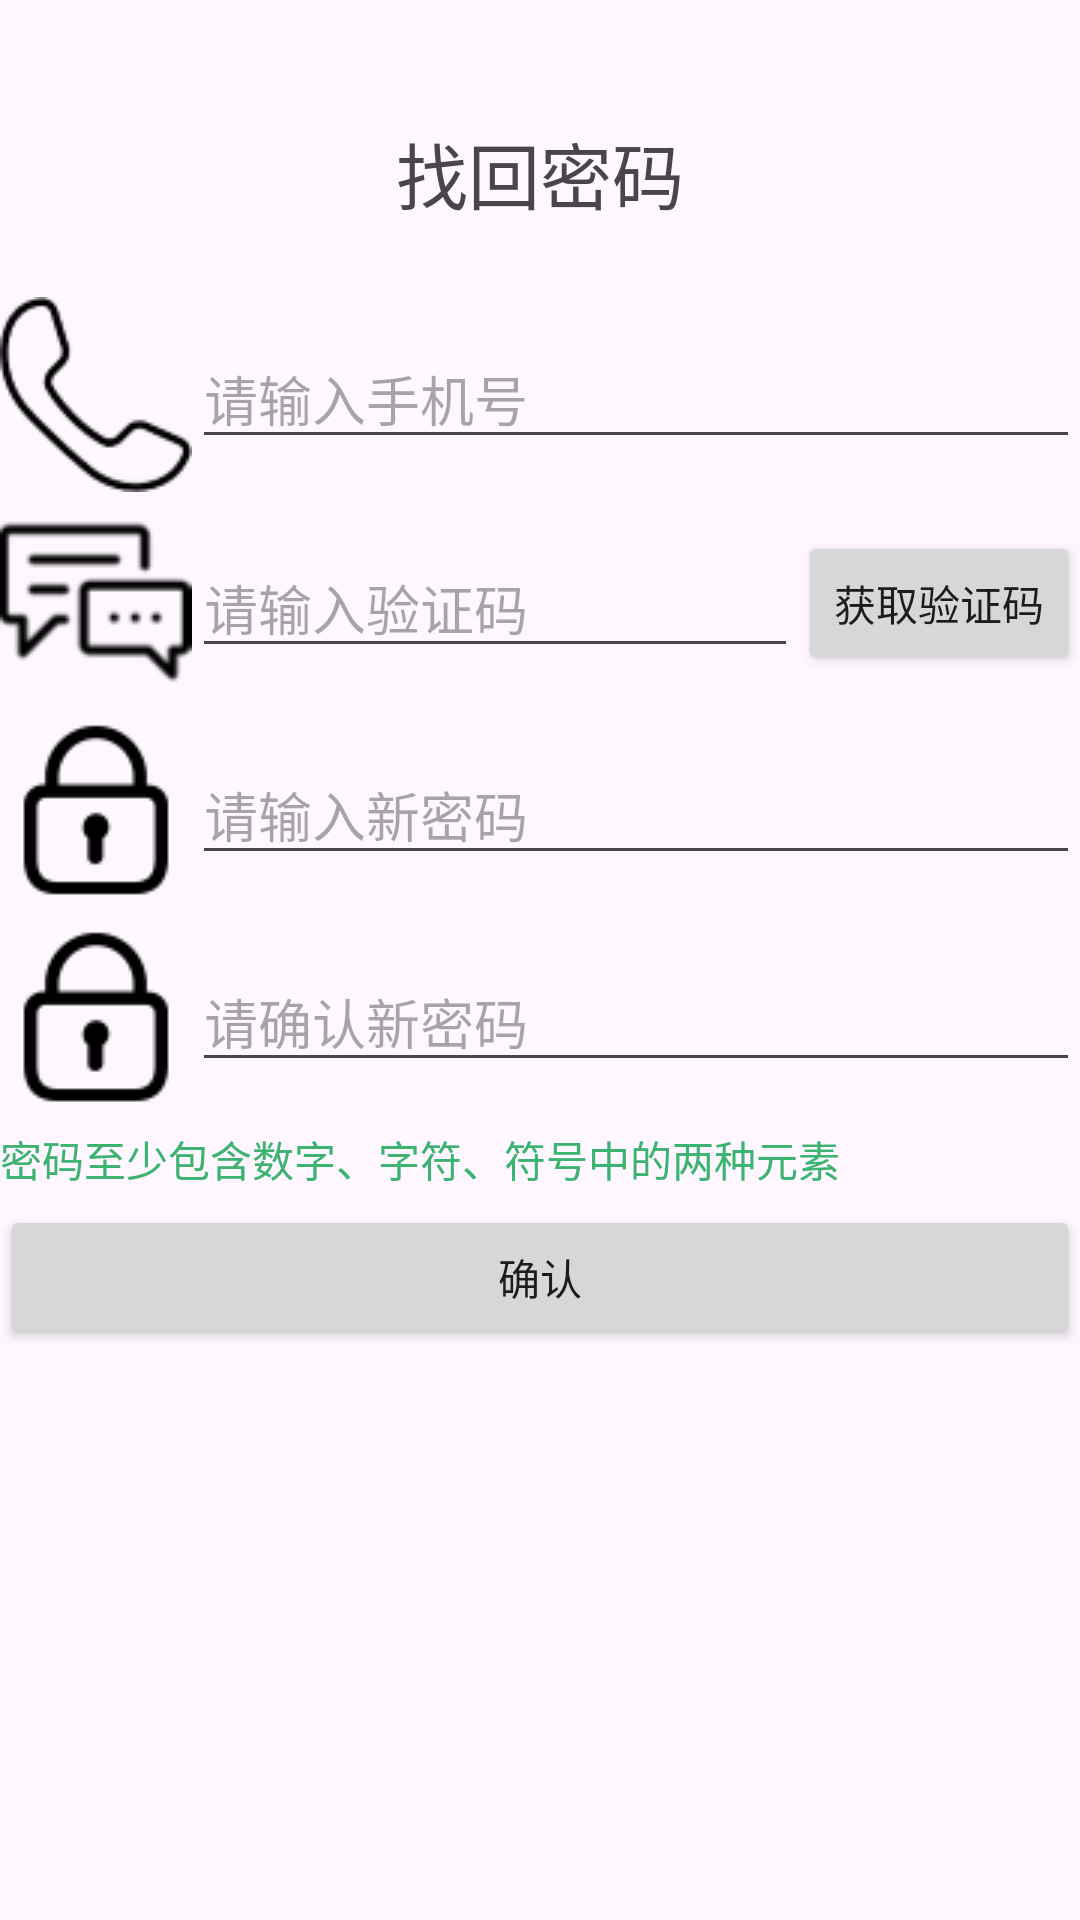

Icon click points for this 1080*1920 phone screenshot, format (x,y):
lock: (96,810), (96,1017)
message: (96,602)
phone: (96,394)
